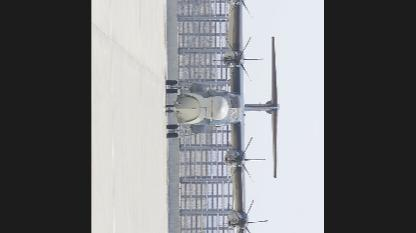Tu95: (166, 0, 282, 232)
